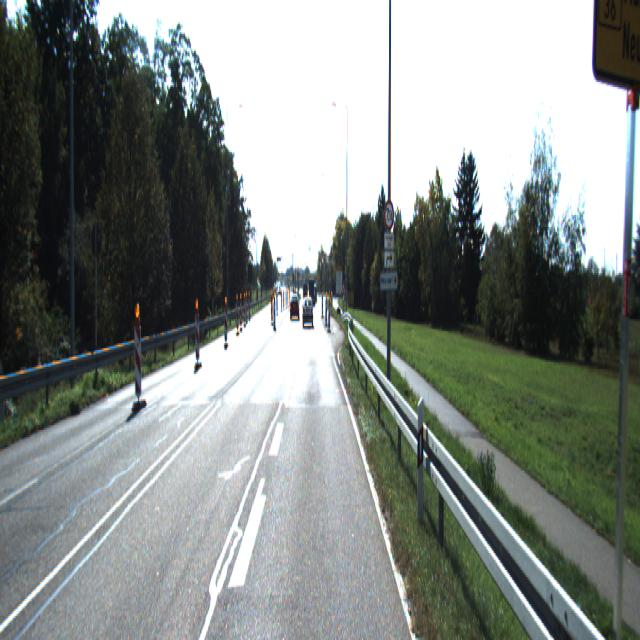Car: (302, 296, 314, 324), (290, 295, 300, 321)
